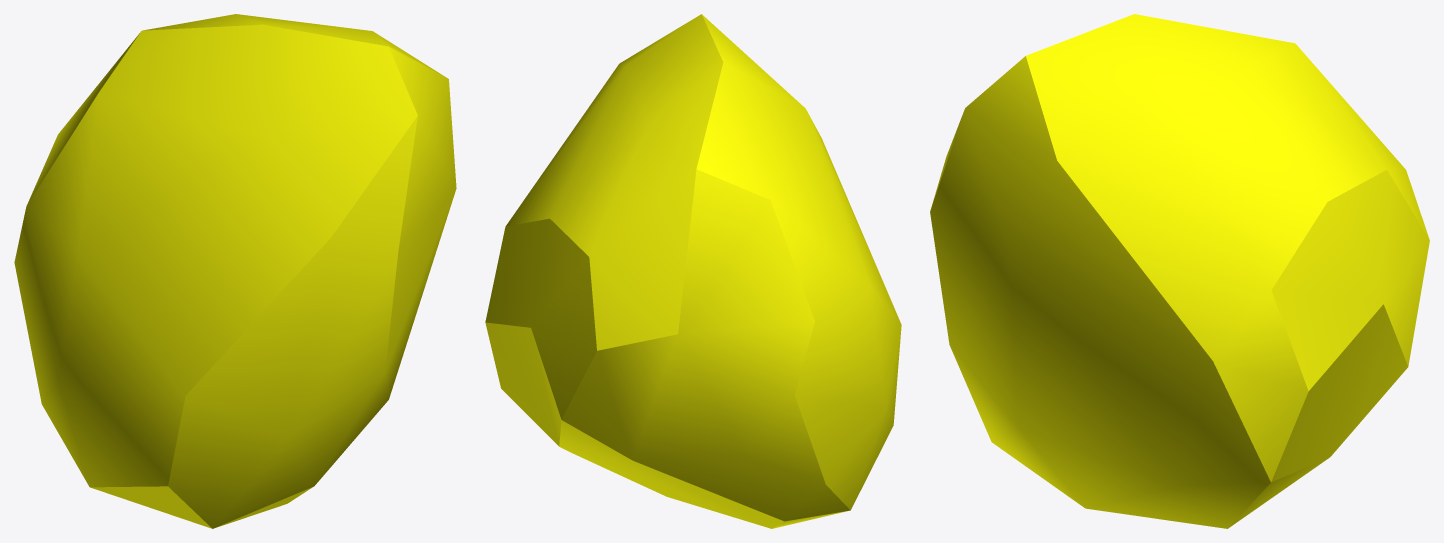
The model's file is kaykit-rock-3-e-color-1.glb.
The picture shows the model from 3 angles, left to right: view 1: azimuth 30°, elevation 25°; view 2: azimuth 150°, elevation 25°; view 3: azimuth 270°, elevation 25°; orthographic projection. The views are drawn at different scales.
Parts seen in each view (by area): view 1: Rock_3_E_Color1; view 2: Rock_3_E_Color1; view 3: Rock_3_E_Color1.
Part boxes in pixels (x1=…): Rock_3_E_Color1: x1=14, y1=14, x2=456, y2=528; Rock_3_E_Color1: x1=485, y1=14, x2=901, y2=528; Rock_3_E_Color1: x1=930, y1=14, x2=1429, y2=528.
Size of the model in its own units: 1.15 by 1.29 by 1.18.
